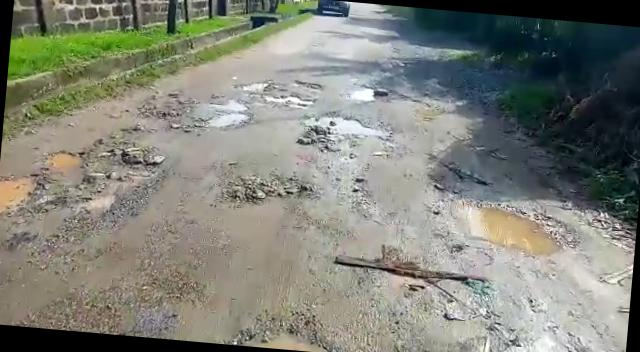pothole: (439, 192, 575, 260), (39, 140, 158, 200), (232, 310, 339, 352), (300, 109, 392, 144), (0, 169, 39, 219), (198, 109, 258, 134), (198, 94, 252, 115), (256, 93, 316, 108), (343, 84, 382, 104), (230, 76, 272, 93)
